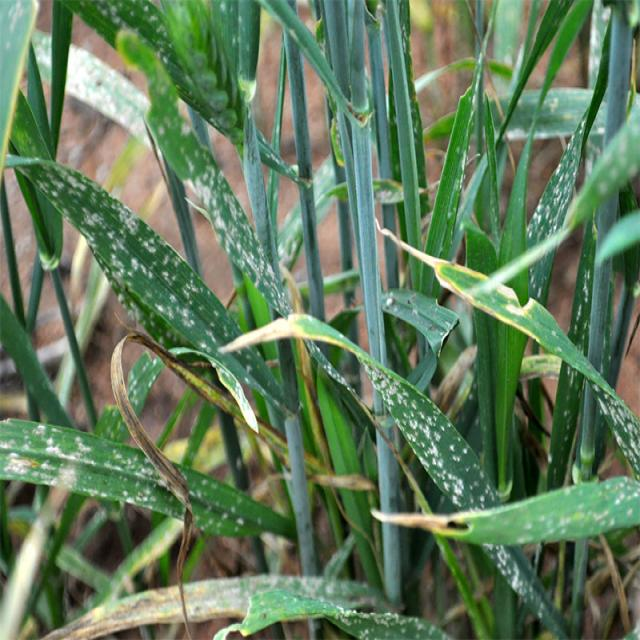wheat-powdery-mildew: (18, 165, 243, 358), (1, 419, 264, 535), (175, 107, 299, 313), (361, 358, 502, 512)
